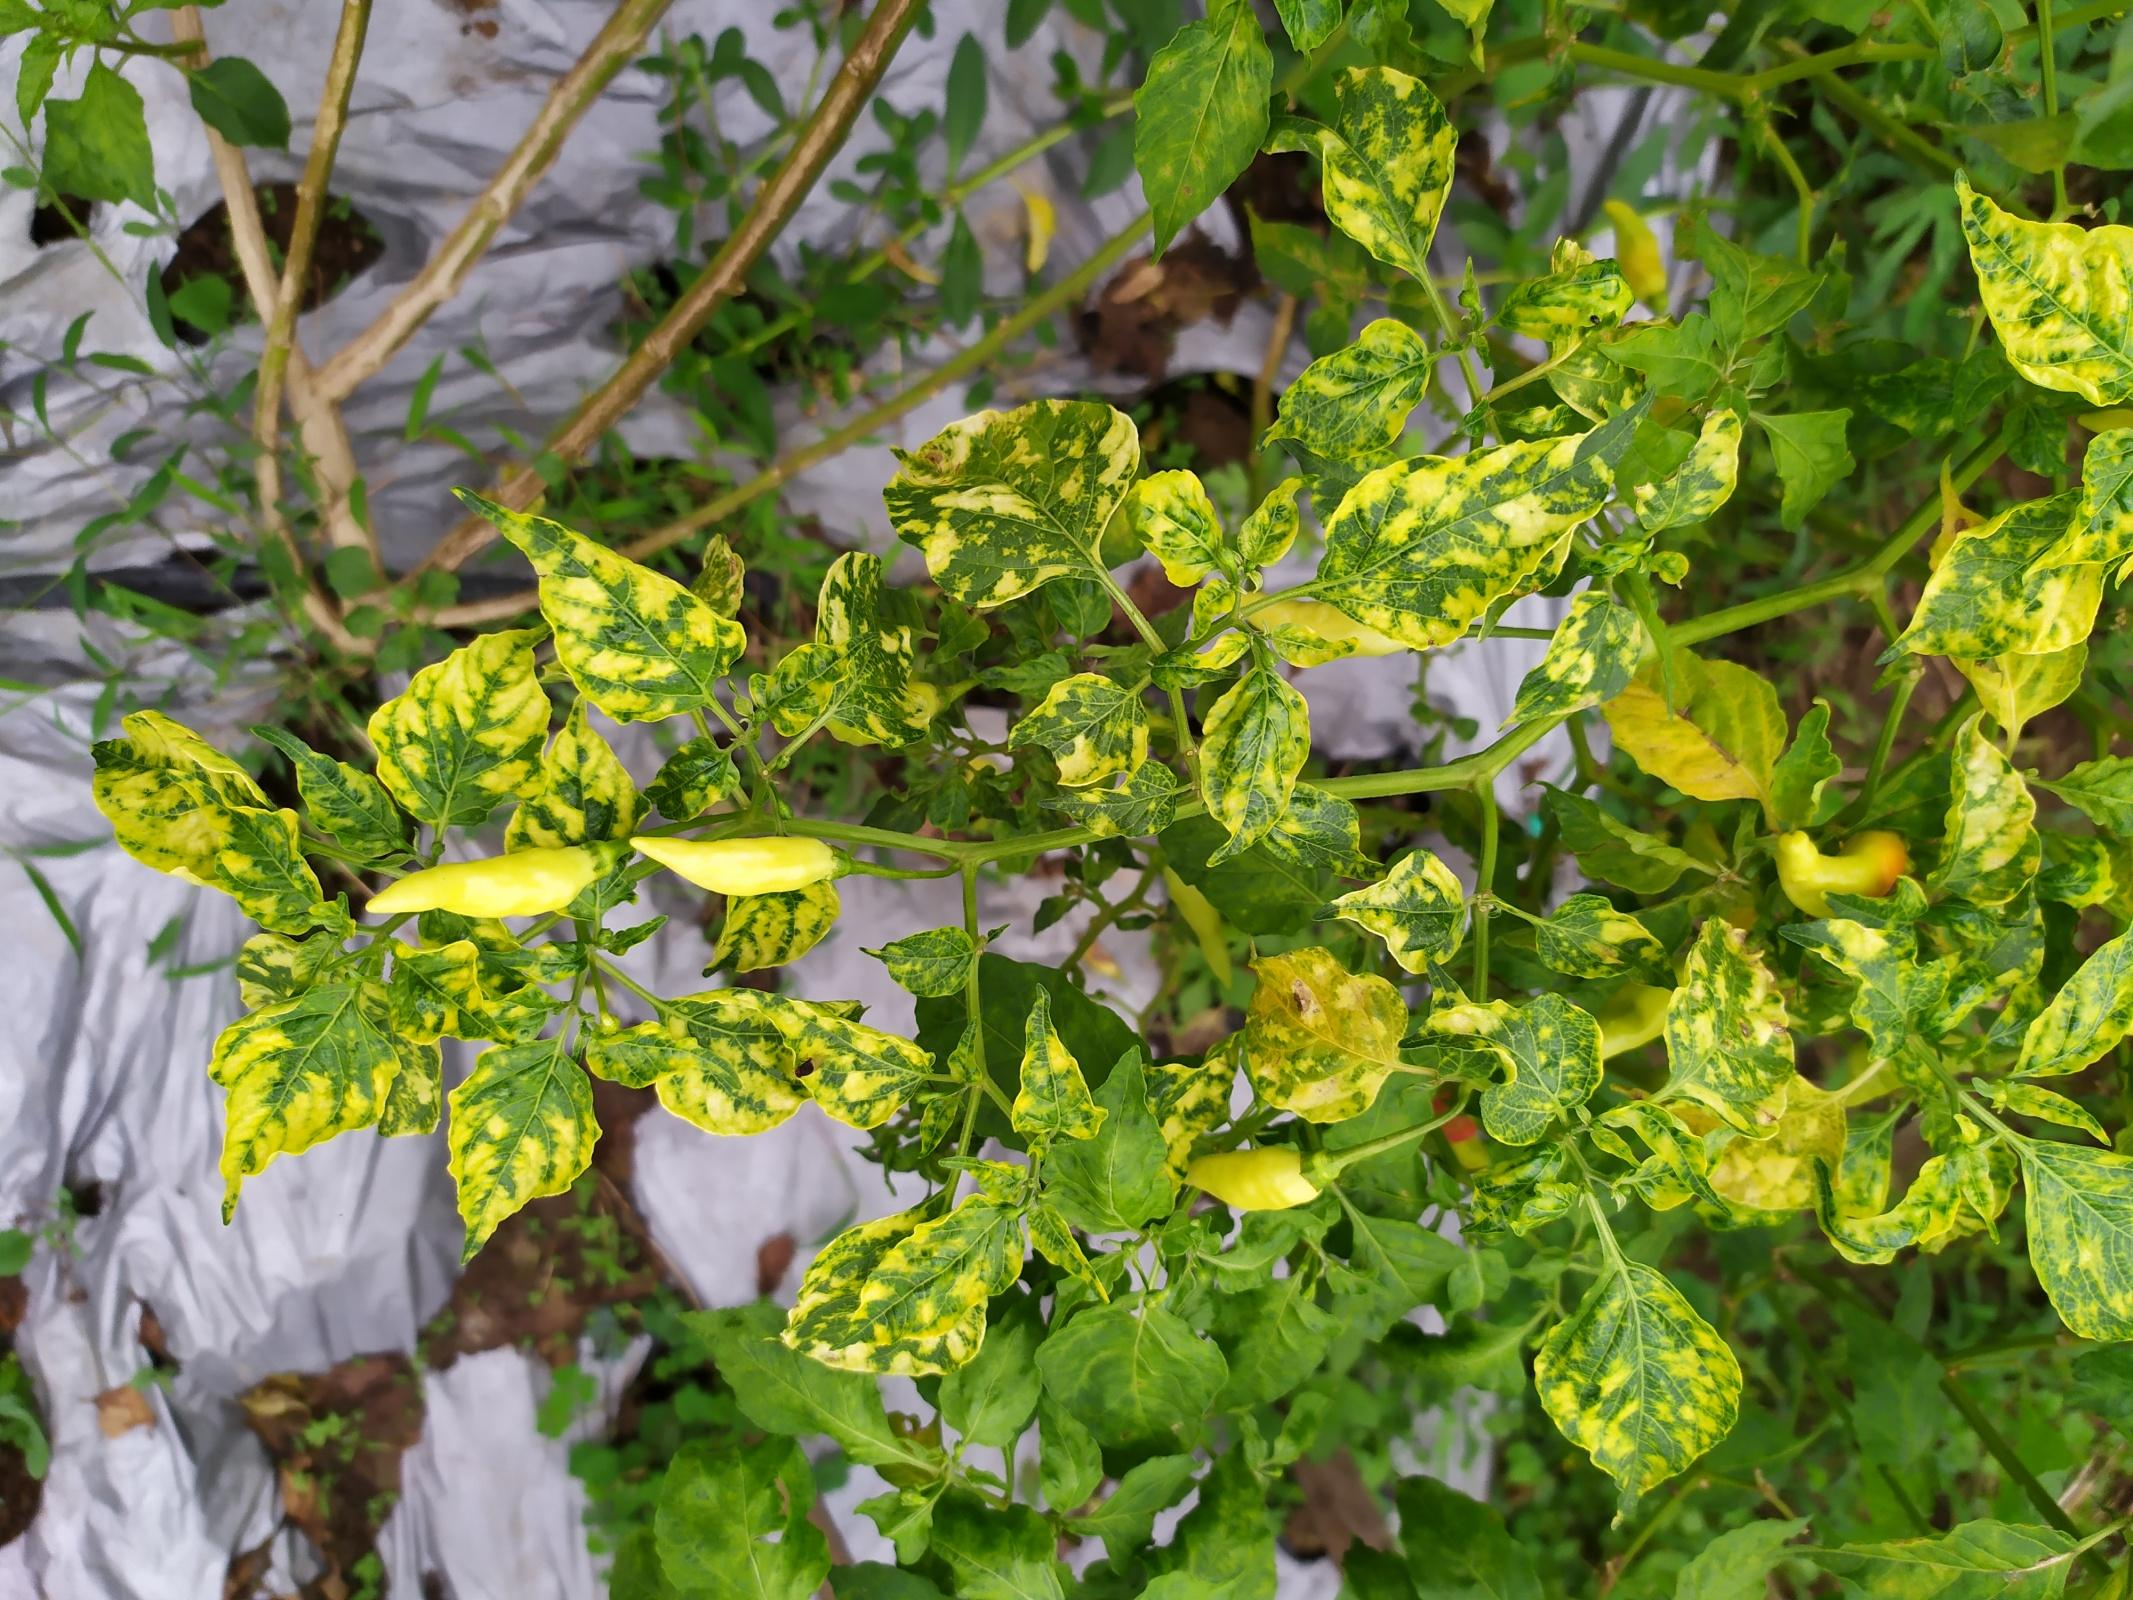cabai_normal: (365, 854, 605, 923), (629, 834, 835, 899), (1773, 829, 1920, 918), (1177, 1150, 1319, 1213), (1602, 197, 1671, 309)
